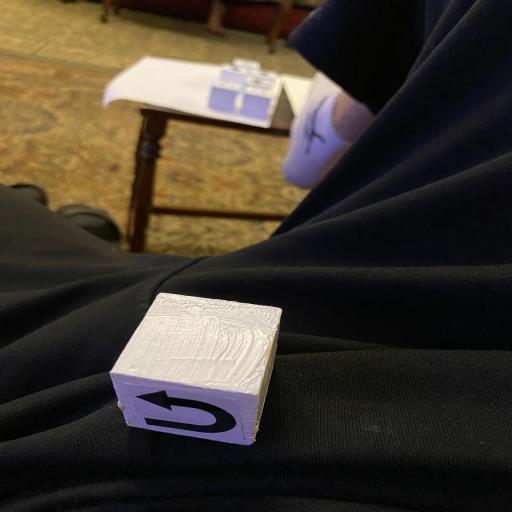Undo: (109, 292, 285, 444)
